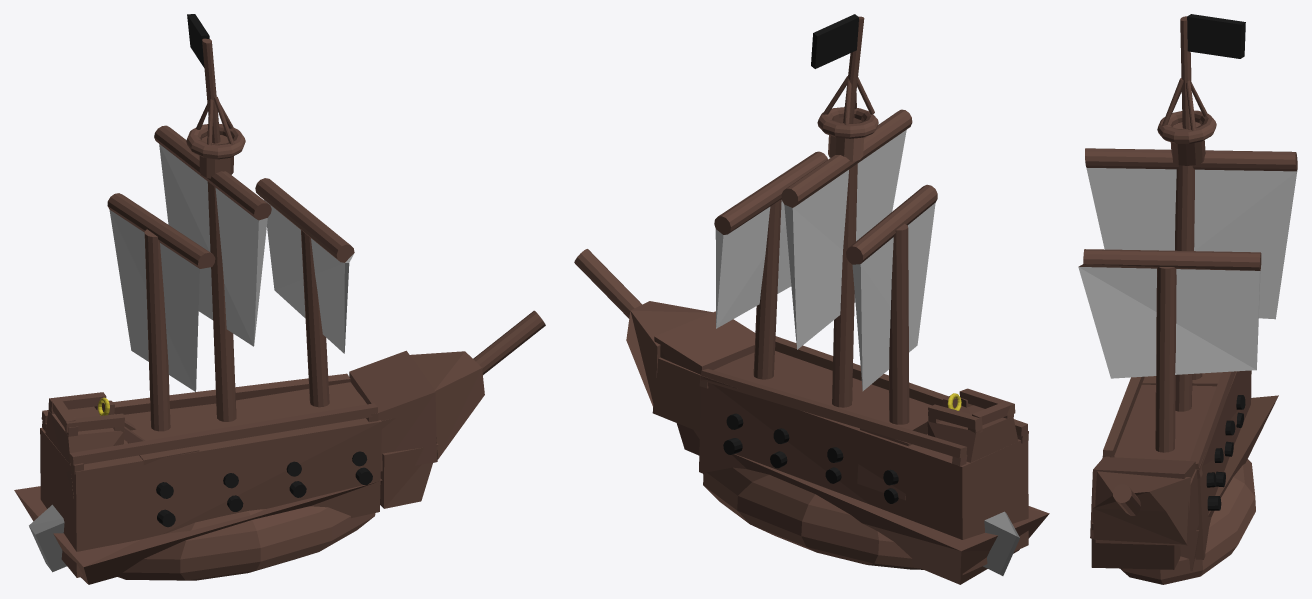
File: pirateShip_animation_v002.dae
3 views of the same model, side by side, from view 1: azimuth 30°, elevation 25°; view 2: azimuth 150°, elevation 25°; view 3: azimuth 270°, elevation 25° (orthographic). The views are drawn at different scales.
Parts seen in each view (by area): view 1: pirateShip_resized_animation_v002; view 2: pirateShip_resized_animation_v002; view 3: pirateShip_resized_animation_v002.
Boxes of the visible parts, left/top/right/bottom form: pirateShip_resized_animation_v002: left=14, top=14, right=545, bottom=584; pirateShip_resized_animation_v002: left=574, top=14, right=1049, bottom=584; pirateShip_resized_animation_v002: left=1078, top=14, right=1297, bottom=584.
Bounding box in the file's own units: 555 × 589 × 224.
